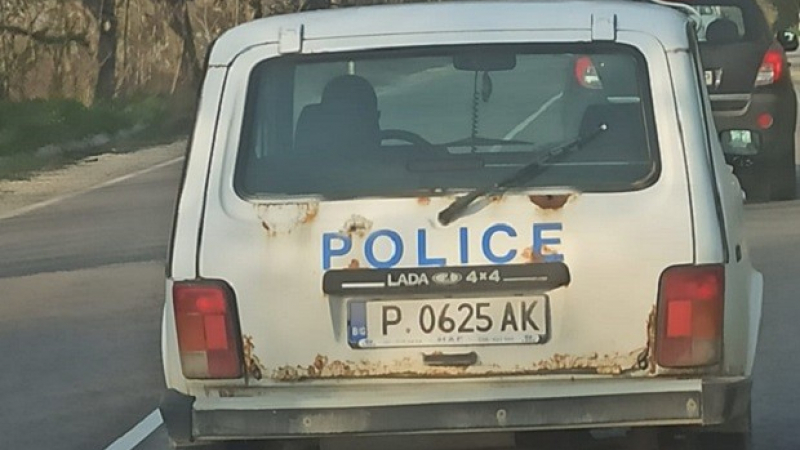registration_plate: (346, 291, 554, 353)
